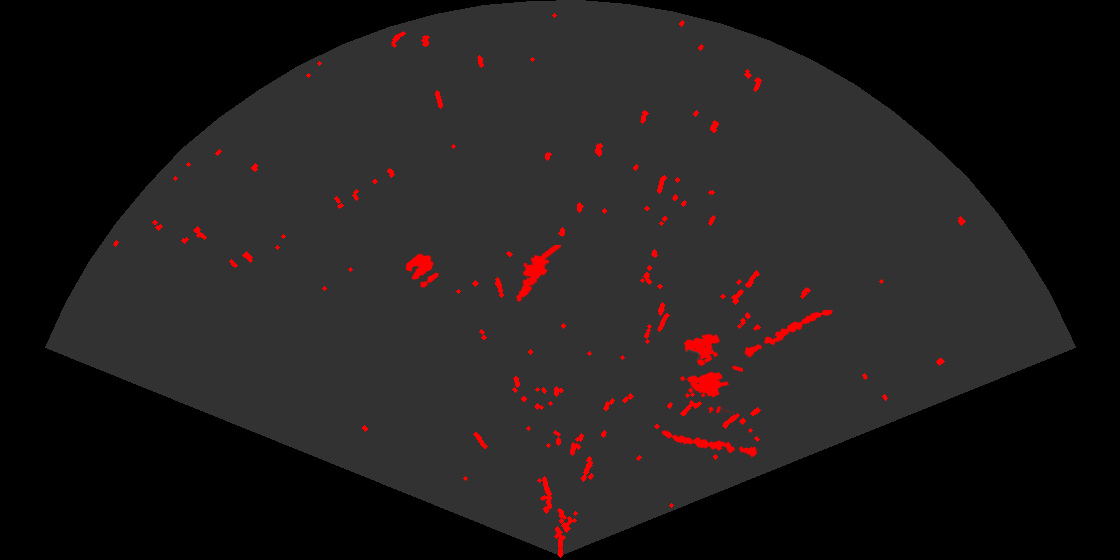ball: (404, 252, 440, 289)
cage: (678, 332, 743, 413)
chain: (743, 308, 834, 359), (660, 429, 760, 459)
frogman: (514, 245, 561, 303)
